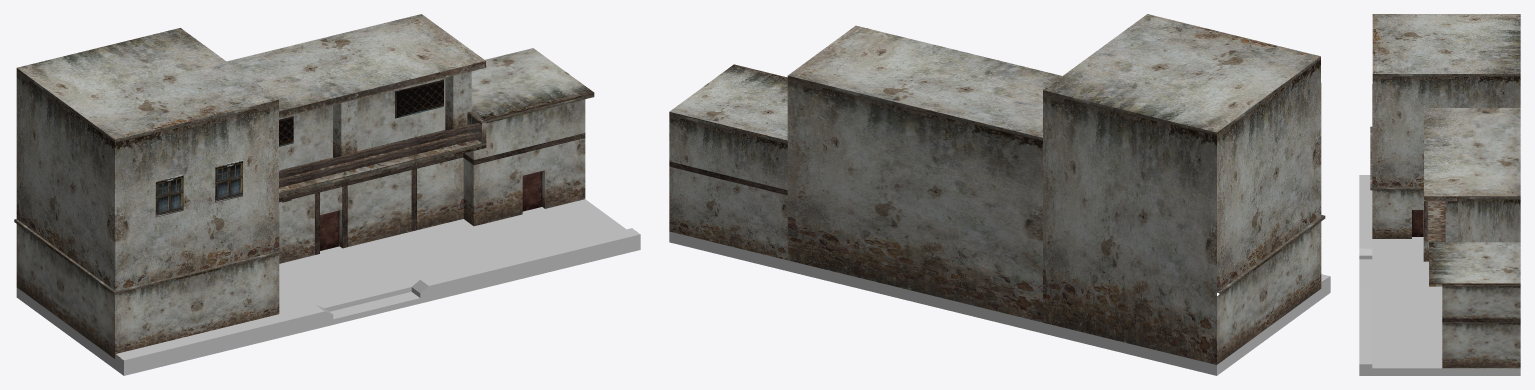
Rendered from BuildingA.fbx.
The picture shows the model from 3 angles, left to right: view 1: azimuth 30°, elevation 25°; view 2: azimuth 150°, elevation 25°; view 3: azimuth 270°, elevation 25°; orthographic projection. The views are drawn at different scales.
Visible parts, largest first — view 1: BuildingA; view 2: BuildingA; view 3: BuildingA.
Part boxes in pixels (bbox=[...]): BuildingA: bbox=[14, 14, 640, 375]; BuildingA: bbox=[669, 14, 1330, 375]; BuildingA: bbox=[1359, 14, 1520, 375].
Bounding box in the file's own units: 3188 × 1348 × 1142.
